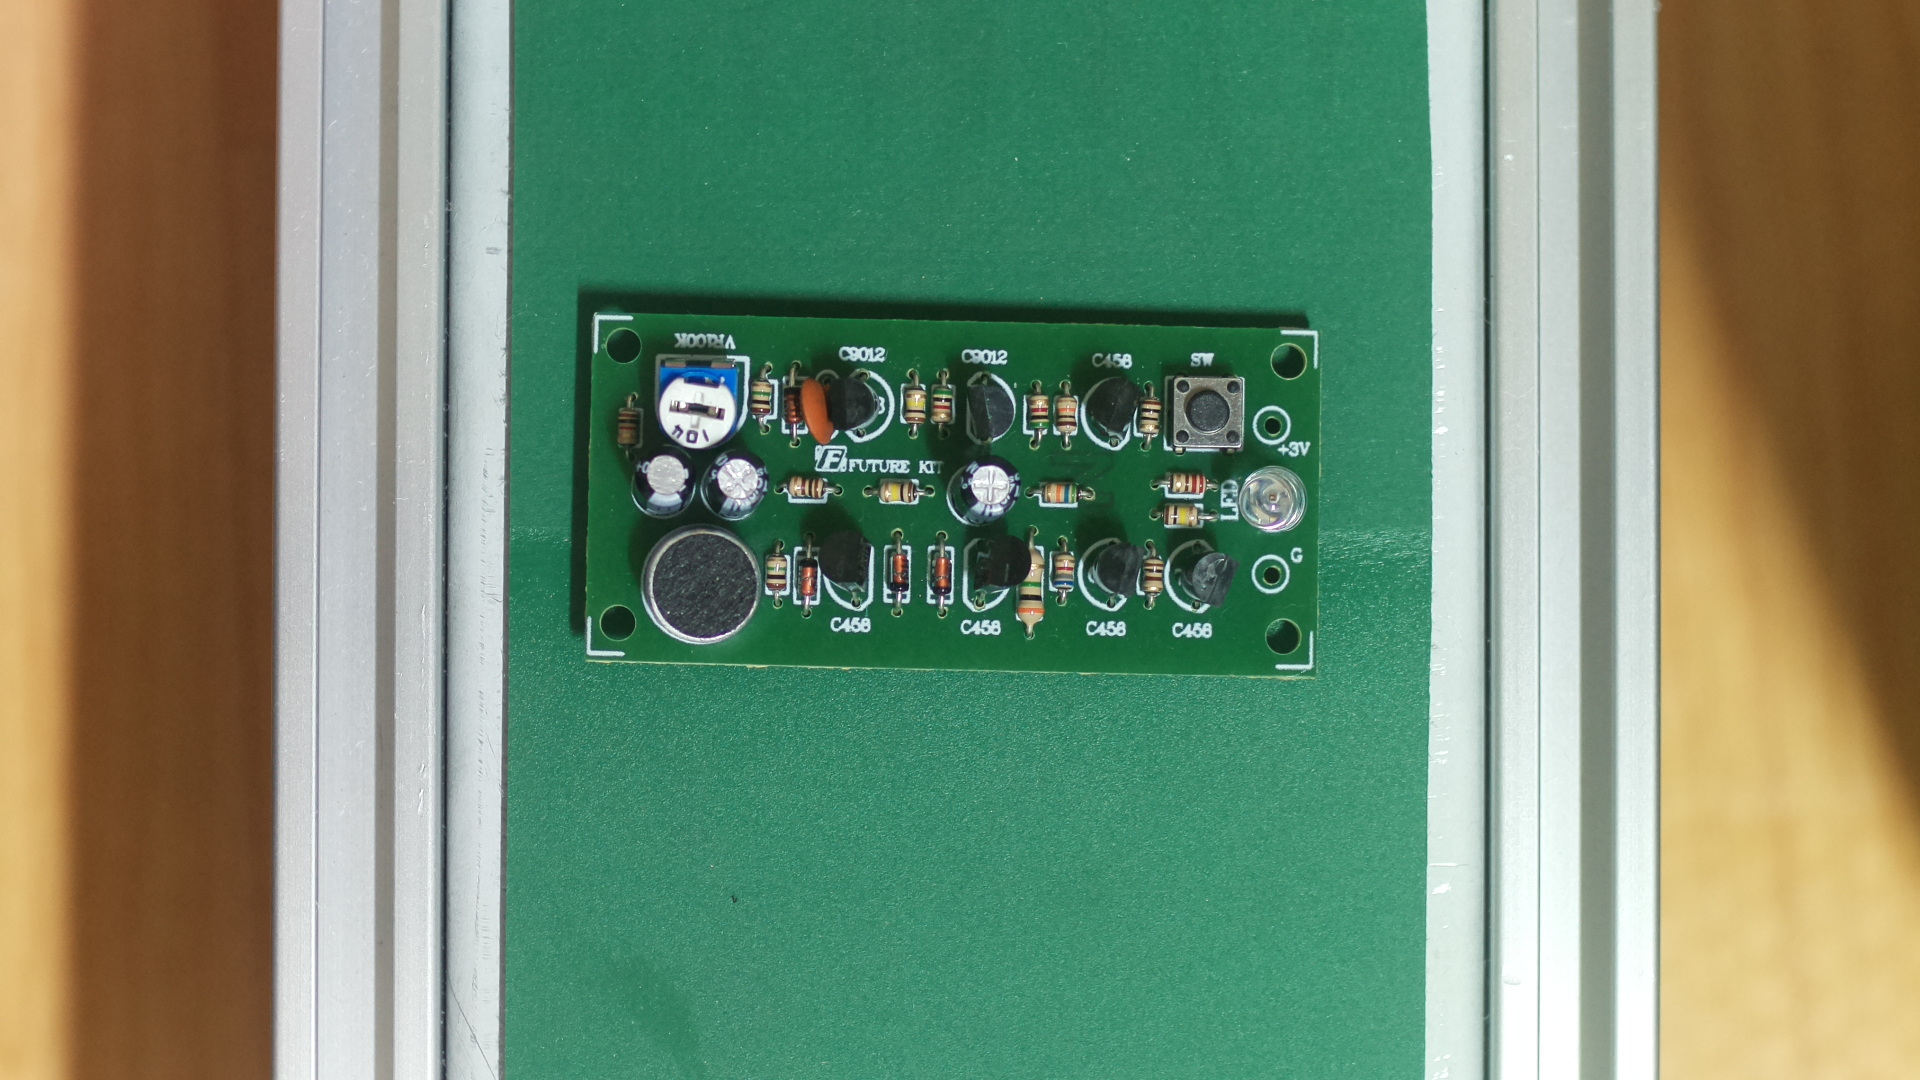A_Misordered: (583, 306, 1320, 683)
